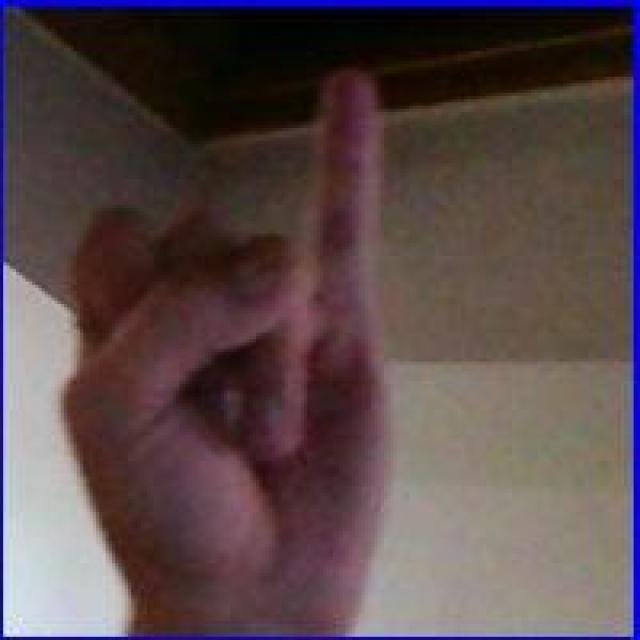I: (50, 64, 408, 621)
